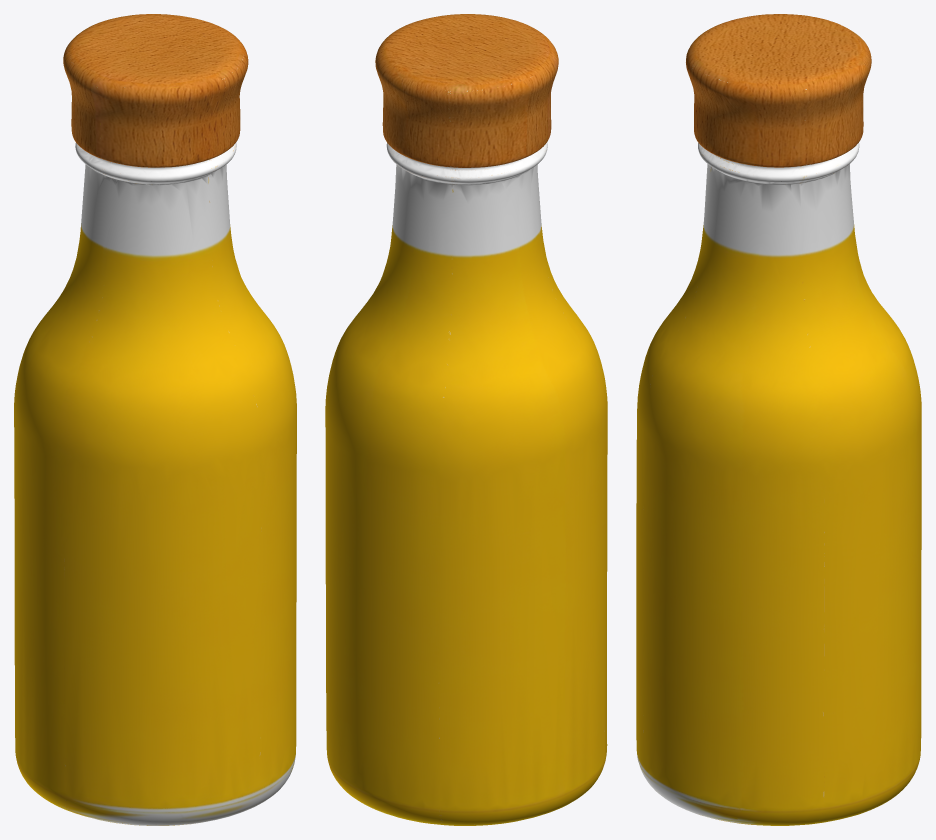
File: dumpling-oil.glb
3 renders of one model, left to right at view 1: azimuth 30°, elevation 25°; view 2: azimuth 150°, elevation 25°; view 3: azimuth 270°, elevation 25°, orthographic.
Visible parts, largest first — view 1: mesh; view 2: mesh; view 3: mesh.
Boxes of the visible parts, x1,y1,x2,y2 form: mesh: (14,14,296,825); mesh: (325,14,607,825); mesh: (636,14,921,825).
Size of the model in its own units: 0.7015 by 2 by 0.7105.
1 material, 1 textured.
